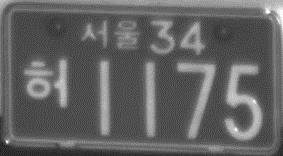1: (95, 58, 116, 138), (140, 60, 160, 140)
3: (148, 18, 177, 56)
4: (178, 21, 207, 56)
5: (222, 61, 265, 143)
7: (173, 58, 218, 142)
서울_O: (80, 17, 141, 51)
허: (23, 57, 71, 109)
